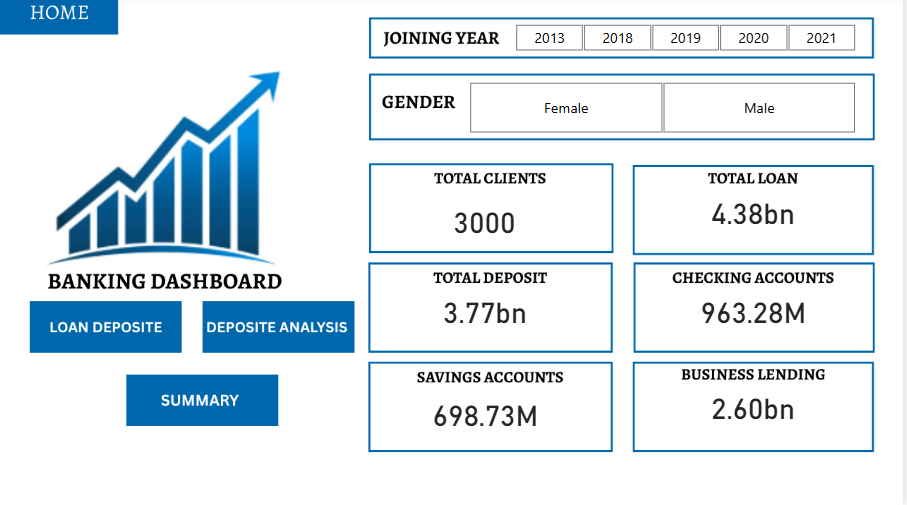

This screenshot's page, from the dashboard's own definition file:
{"tool":"powerbi","page":{"name":"Page 1","canvas":[1280,720],"ordinal":0},"visuals":[{"type":"card","fields":{"Values":["CountNonNull(Banking.Name)"]},"box":[547.1,270.7,279.2,89.3],"z":0},{"type":"slicer","fields":{"Values":["Banking.GenderId"]},"box":[640.6,114.8,595.3,83.6],"z":1000},{"type":"card","fields":{"Values":["Banking.total loorn"]},"box":[918.4,249.4,297.6,106.3],"z":2000},{"type":"card","fields":{"Values":["Banking.total deposit"]},"box":[538.6,389.8,297.6,106.3],"z":3000},{"type":"slicer","fields":{"Values":["Banking.year of joining"]},"box":[705.8,32.6,530.1,49.6],"z":4000},{"type":"card","fields":{"Values":["Sum(Banking.Saving Accounts)"]},"box":[538.6,535.7,297.6,106.3],"z":5000},{"type":"card","fields":{"Values":["Sum(Banking.Business Lending)"]},"box":[918.4,525.8,297.6,106.3],"z":6000},{"type":"card","fields":{"Values":["Sum(Banking.Checking Accounts)"]},"box":[918.4,389.8,297.6,106.3],"z":7000},{"type":"actionButton","box":[43.9,430.9,214,75.1],"z":8000},{"type":"actionButton","box":[286.3,430.9,215.4,75.1],"z":9000},{"type":"actionButton","box":[180,535.7,214,69.4],"z":10000}]}

Visuals, with their boxes in screenshot pixels (x1, y1, x2, y2), scaled from the page's 1280x720 canvas onto the 907x505 screenshot:
card - CountNonNull(Banking.Name): 388, 190, 586, 252
slicer - Banking.GenderId: 454, 81, 876, 139
card - Banking.total loorn: 651, 175, 862, 249
card - Banking.total deposit: 382, 273, 593, 348
slicer - Banking.year of joining: 500, 23, 876, 58
card - Sum(Banking.Saving Accounts): 382, 376, 593, 450
card - Sum(Banking.Business Lending): 651, 369, 862, 443
card - Sum(Banking.Checking Accounts): 651, 273, 862, 348
actionButton: 31, 302, 183, 355
actionButton: 203, 302, 356, 355
actionButton: 128, 376, 279, 424
